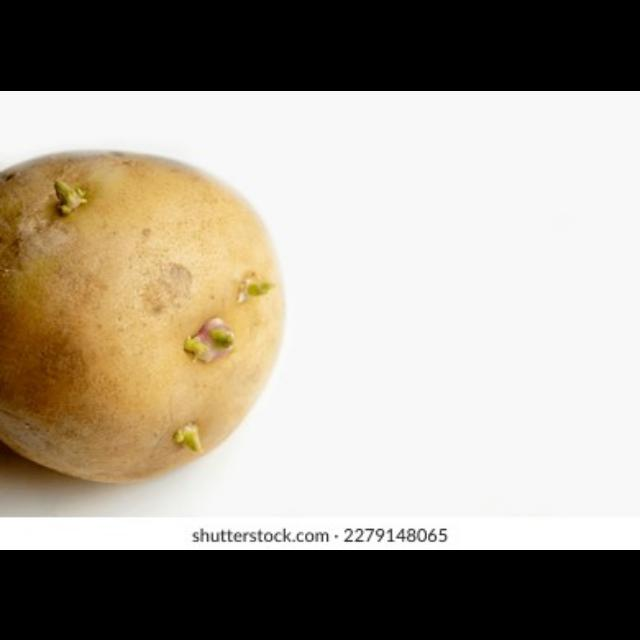Sprouted potato: (1, 138, 288, 494)
